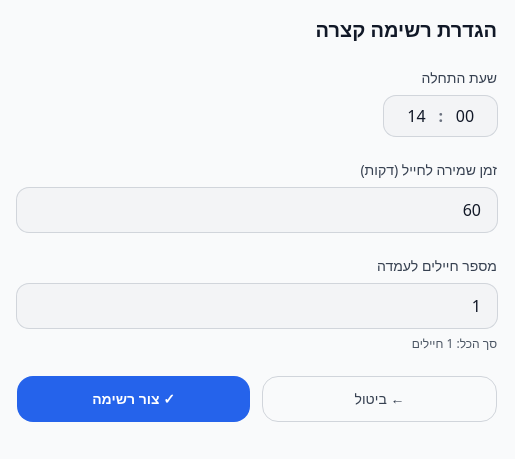
ShortListStep2 › shows per-field error below numberOfWarriors when value is empty on submit
Expected: the heading "הגדרת רשימה קצרה" is shown, x1=316 y1=16 x2=497 y2=43
// Clear numberOfWarriors field and try to submit
Step 1. Clear the number field showing "1" below "מספר חיילים לעמדה" → [257, 306], box x1=17 y1=284 x2=497 y2=328
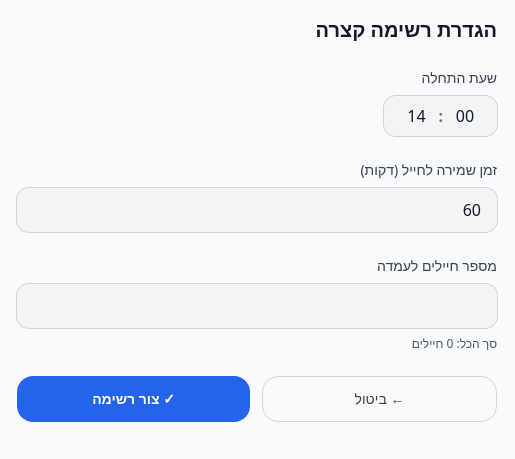
Step 2. Click the button "✓ צור רשימה" → [134, 399], box x1=17 y1=376 x2=250 y2=422
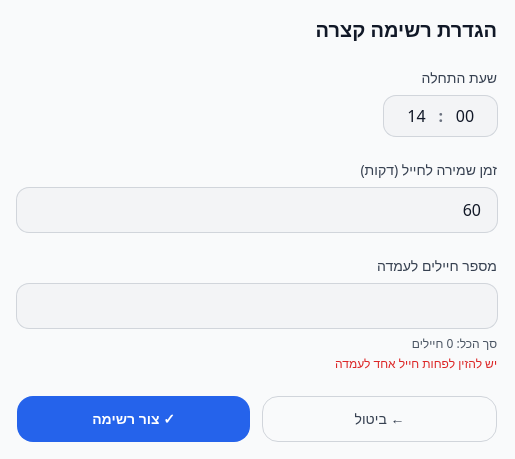
Expected: the text "יש להזין לפחות חייל אחד לעמדה" is shown, x1=335 y1=355 x2=497 y2=372
